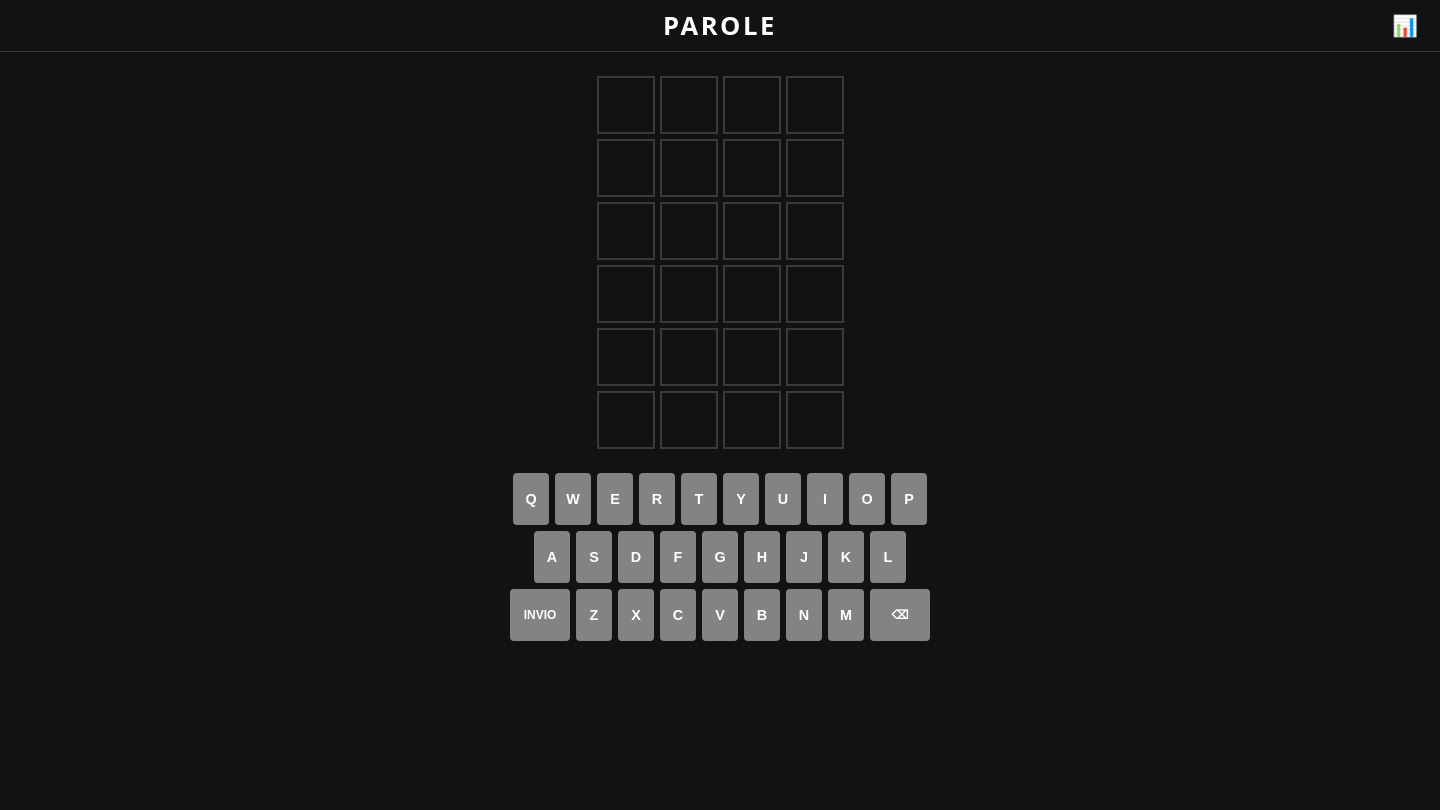
App › con timer reali › la tastiera virtuale inserisce lettere nella griglia
Click the button "p" at (909, 499), box [891, 473, 927, 525]
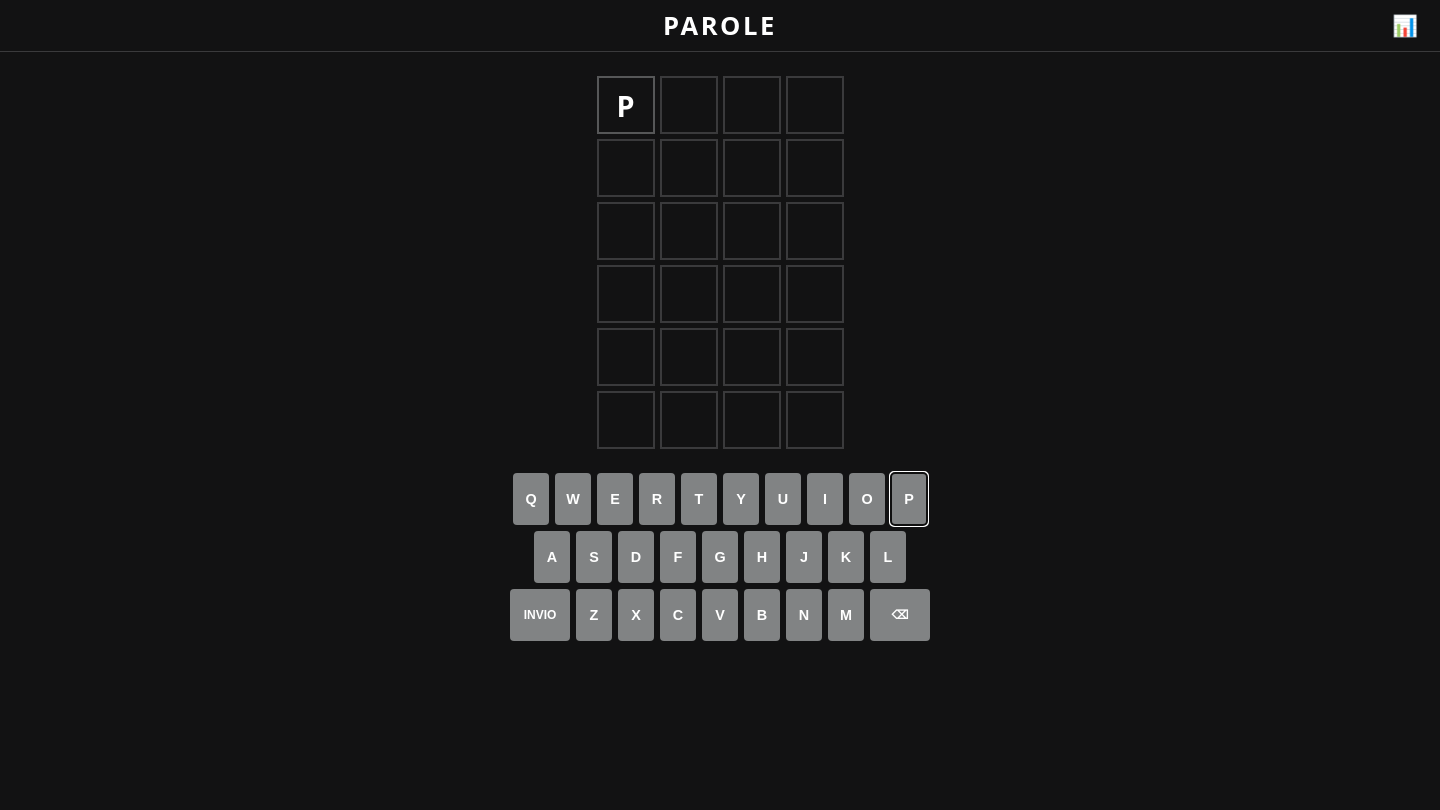
Expected: the text with test id "tile" reads "p", [616, 86, 635, 124]
